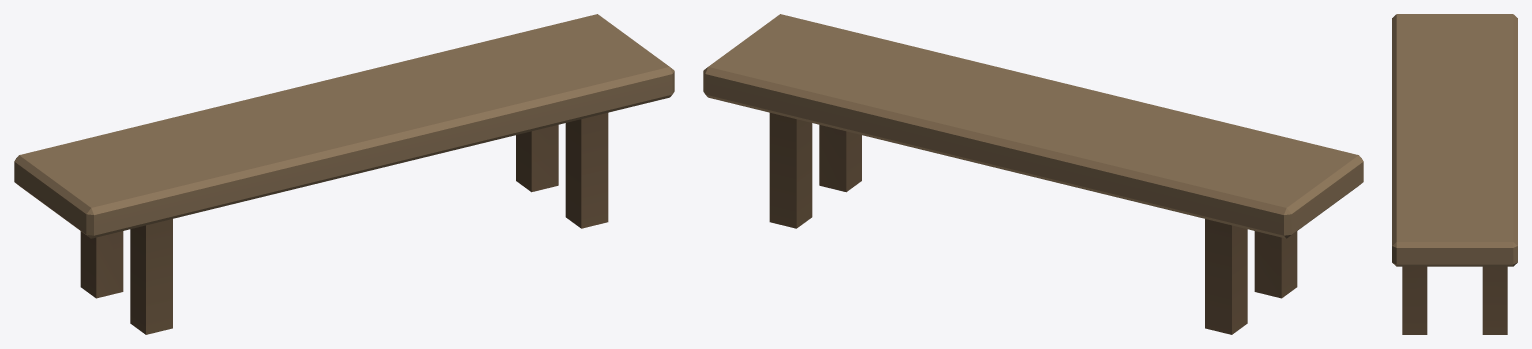
Rendered from bench.glb.
The picture shows the model from 3 angles, left to right: view 1: azimuth 30°, elevation 25°; view 2: azimuth 150°, elevation 25°; view 3: azimuth 270°, elevation 25°; orthographic projection. The views are drawn at different scales.
Parts seen in each view (by area): view 1: bench.002; view 2: bench.002; view 3: bench.002.
Part boxes in pixels (x1,y1,x2,y2): bench.002: (14,14,674,334); bench.002: (703,14,1363,334); bench.002: (1392,14,1517,334).
Size of the model in its own units: 2.4 by 0.56 by 0.55.
